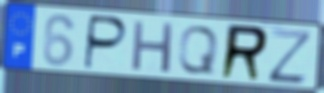6: (40, 12, 80, 69)
H: (130, 18, 176, 75)
P: (82, 13, 130, 72)
Q: (176, 24, 221, 76)
R: (218, 22, 272, 83)
Z: (266, 26, 315, 86)
